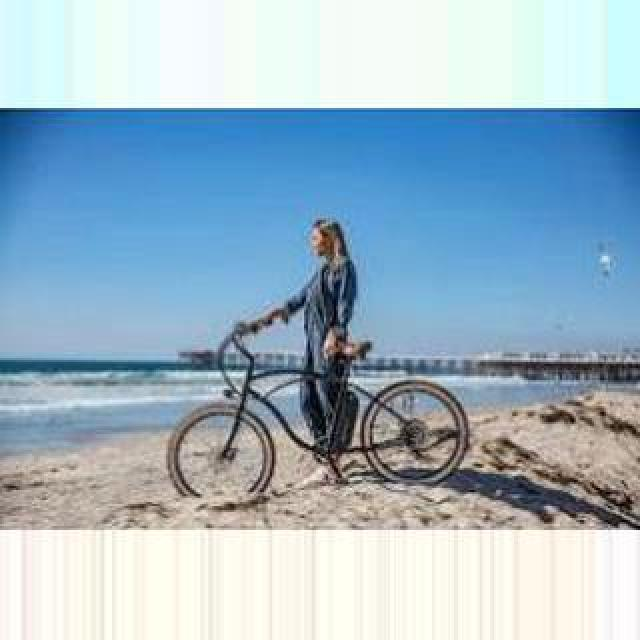MC-Bike: (260, 218, 364, 466)
Person: (164, 319, 472, 511)
